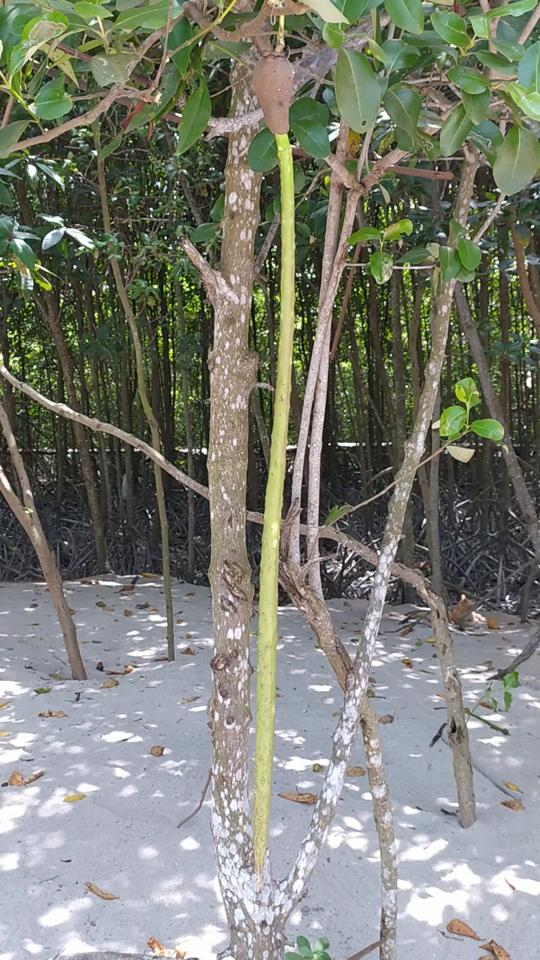mentah: (230, 21, 311, 885)
